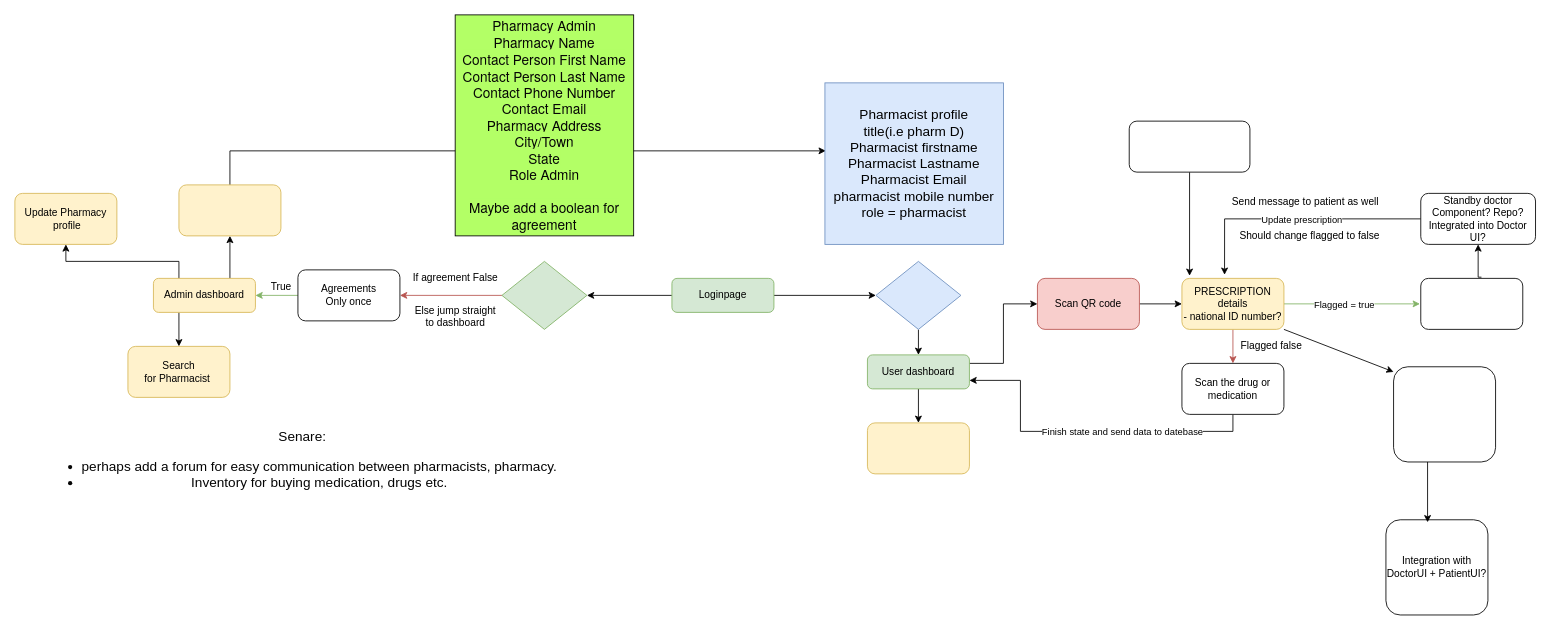
The diagram is 1550 pixels wide and 630 high, and some of its shapes have lost their labels. Here are the shapes that lost their labels. From the top down, the centre of each, then its label:
pixel 1189 146: Presciption data inc doctorID(responseble ID)
pixel 229 210: Add Pharmacist
pixel 544 295: Admin login
pixel 918 295: User login
pixel 1471 303: Chat with doctor?
pixel 1444 414: Next step? Prescription object with boolean that it has been delivered?
pixel 918 448: Update password
